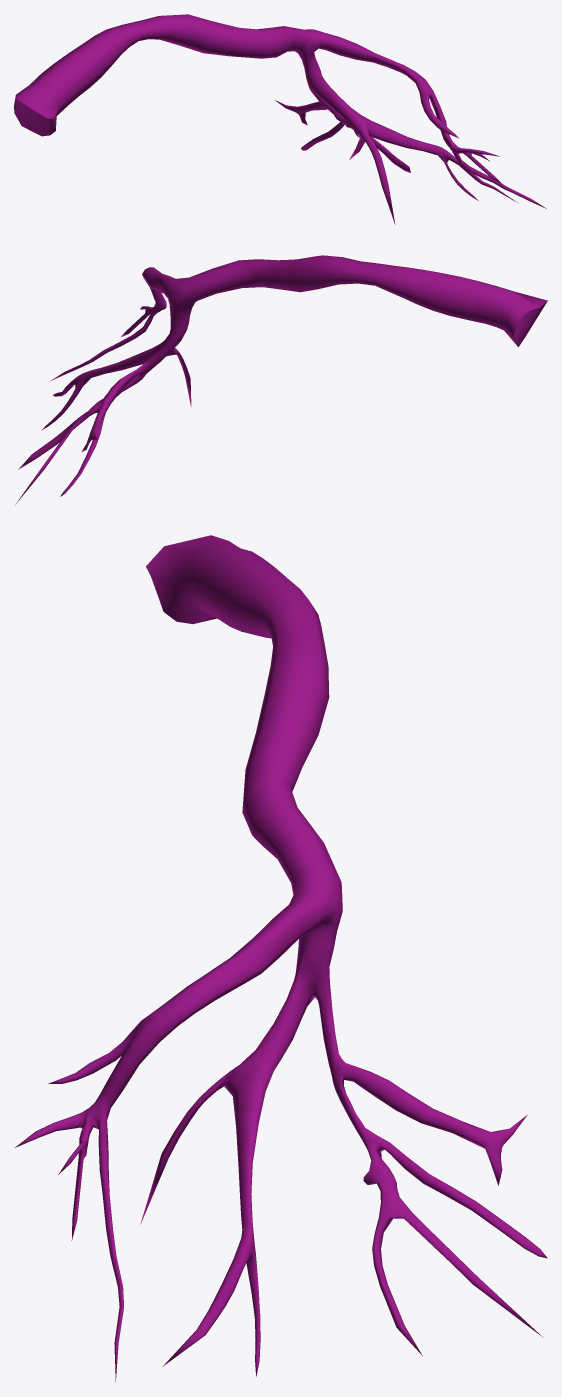
File: Left_Renal_vein_inner.fbx
The picture shows the model from 3 angles, top to bottom: view 1: azimuth 30°, elevation 25°; view 2: azimuth 150°, elevation 25°; view 3: azimuth 270°, elevation 25°; orthographic projection. The views are drawn at different scales.
Parts seen in each view (by area): view 1: Left_Renal_vein_inner; view 2: Left_Renal_vein_inner; view 3: Left_Renal_vein_inner.
Part boxes in pixels (x1,y1,x2,y2): Left_Renal_vein_inner: [14, 14, 546, 224]; Left_Renal_vein_inner: [15, 255, 547, 504]; Left_Renal_vein_inner: [15, 535, 547, 1382].
Bounding box in the file's own units: 94.75 × 45.94 × 47.21.
